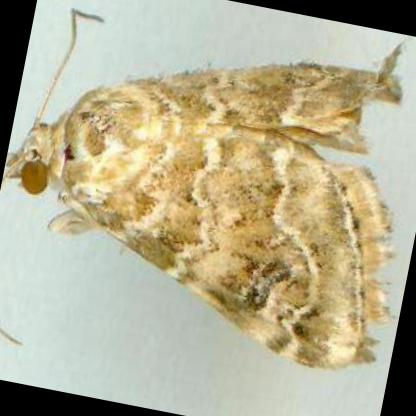Hellula undalis: (0, 0, 411, 386)
